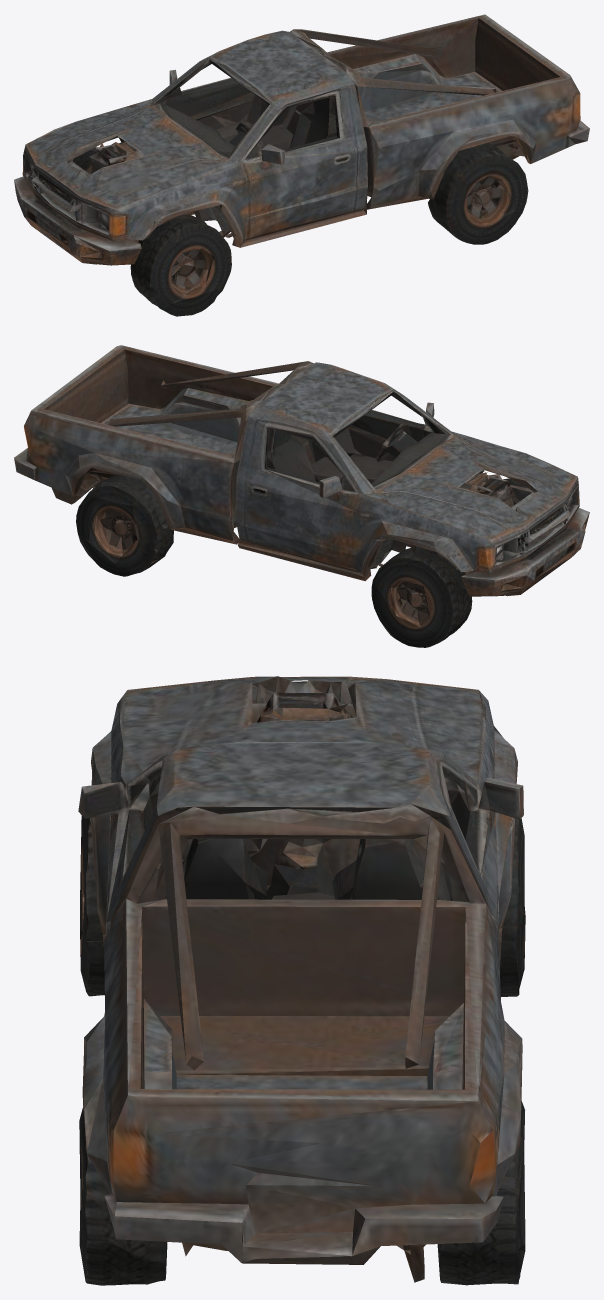
Rendered from ridgeback_carcass.glb.
3 renders of one model, top to bottom at view 1: azimuth 30°, elevation 25°; view 2: azimuth 150°, elevation 25°; view 3: azimuth 270°, elevation 25°, orthographic. The views are drawn at different scales.
Size of the model in its own units: 1.9 by 0.6548 by 0.7334.
1 material, 1 textured.
